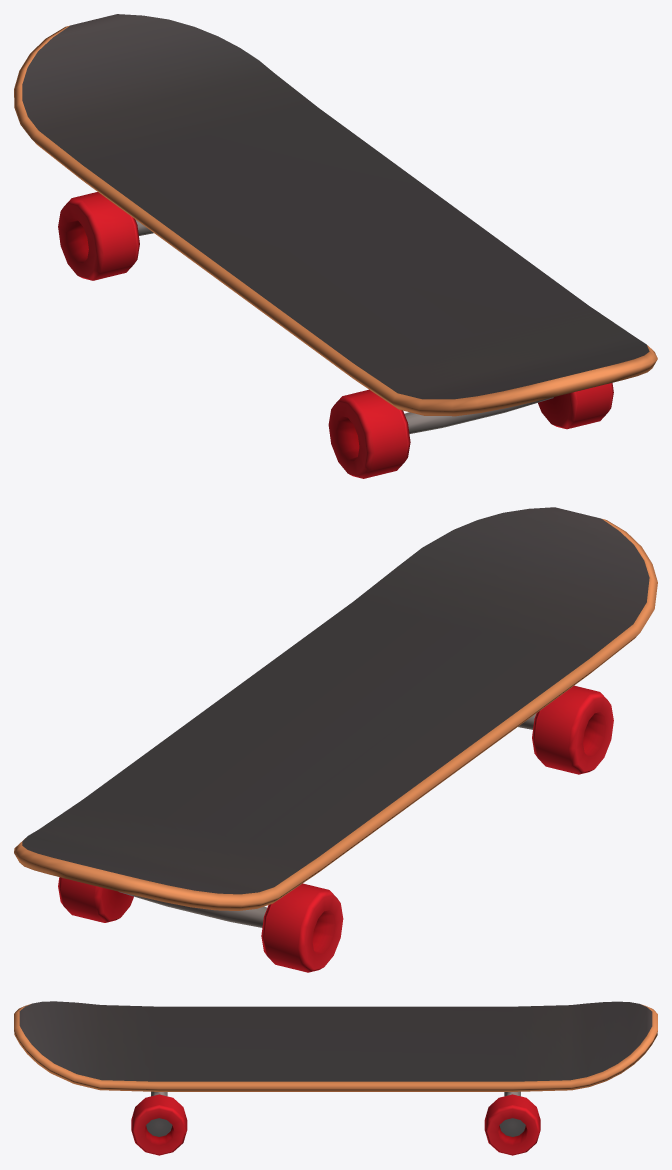
File: skateboard.fbx
3 views of the same model, one above another, from view 1: azimuth 30°, elevation 25°; view 2: azimuth 150°, elevation 25°; view 3: azimuth 270°, elevation 25° (orthographic). The views are drawn at different scales.
Visible parts, largest first — view 1: skateboard; view 2: skateboard; view 3: skateboard.
Boxes of the visible parts, x1,y1,x2,y2 form: skateboard: (14,14,657,478); skateboard: (14,507,657,972); skateboard: (14,1001,657,1155).
Size of the model in its own units: 18.33 by 10.74 by 63.11.
